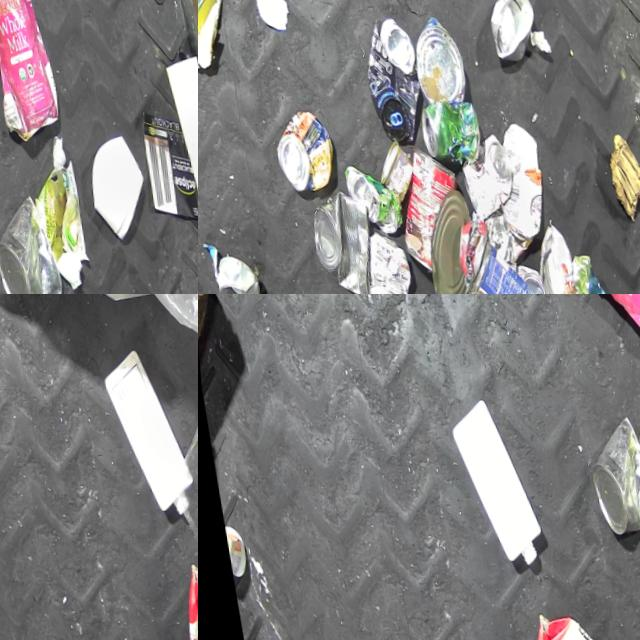can: (380, 135, 464, 270), (351, 5, 424, 138), (296, 179, 373, 294), (575, 400, 640, 528), (409, 177, 475, 294), (0, 173, 63, 294), (261, 100, 332, 192), (446, 225, 539, 294), (447, 119, 510, 215), (401, 3, 464, 98), (409, 86, 476, 160), (343, 220, 409, 294), (334, 154, 396, 231), (522, 210, 570, 294), (478, 0, 535, 53), (365, 131, 410, 197), (201, 247, 255, 294), (506, 252, 539, 294)
milk_jug: (91, 336, 192, 517), (440, 386, 539, 566)
non_white_jug: (513, 590, 628, 640), (165, 540, 198, 640)
